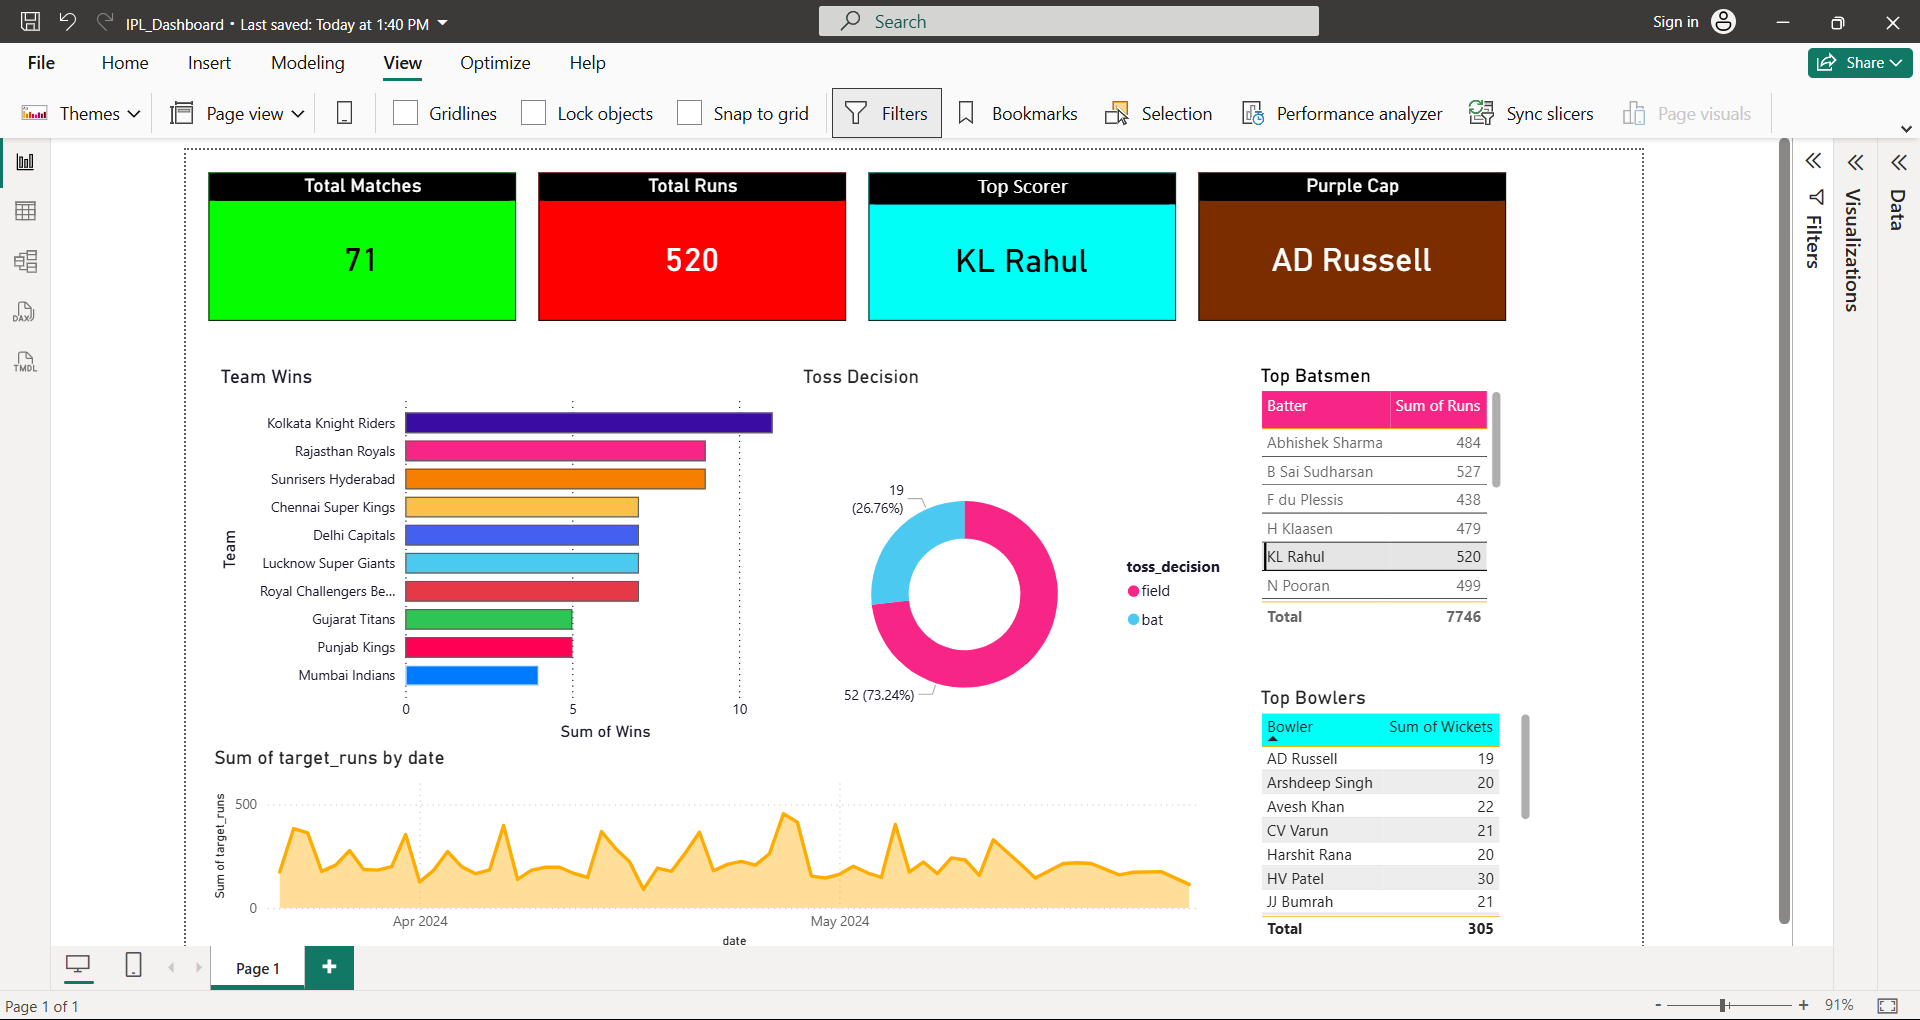

The page's visual inventory and layout, read from the dashboard file:
{"tool":"powerbi","page":{"name":"Page 1","canvas":[1280,720],"ordinal":0},"visuals":[{"type":"card","title":"Total Matches","fields":{"Values":["CountNonNull(Matches.id)"]},"box":[20,20,270,130],"z":0},{"type":"card","title":"Total Runs","fields":{"Values":["Sum(Top_Batsmen.Runs)"]},"box":[310,20,270,130],"z":1000},{"type":"card","title":"Top Scorer","fields":{"Values":["Min(Top_Batsmen.Batter)"]},"box":[600,20,270,130],"z":2000},{"type":"card","title":"Purple Cap","fields":{"Values":["Min(Top_Bowlers.Bowler)"]},"box":[890,20,270,130],"z":3000},{"type":"clusteredBarChart","title":"Team Wins","fields":{"Category":["Team_Wins.Team"],"Y":["Sum(Team_Wins.Wins)"]},"box":[25,188.6,531.8,335.2],"z":4000},{"type":"donutChart","title":"Toss Decision","fields":{"Category":["Matches.toss_decision"],"Y":["CountNonNull(Matches.id)"]},"box":[537.8,188.9,394.4,384.4],"z":5000},{"type":"tableEx","title":"Top Batsmen","fields":{"Values":["Top_Batsmen.Batter","Sum(Top_Batsmen.Runs)"]},"box":[940,188.2,222,238.9],"z":6000},{"type":"tableEx","title":"Top Bowlers","fields":{"Values":["Top_Bowlers.Bowler","Sum(Top_Bowlers.Wickets)"]},"box":[940,471.2,247.5,227.5],"z":7000},{"type":"areaChart","fields":{"Y":["Sum(Matches.target_runs)"],"Category":["Matches.date"]},"box":[20,524.4,893.3,182.2],"z":8000}]}

Visuals, with their boxes on the page's 1280x720 design canvas (x1, y1, x2, y2). These are canvas units, not pixel positions in the 1920x1020 screenshot, which may show the page scaled, cropped or inside an application window:
"Total Matches" card: Rect(20, 20, 290, 150)
"Total Runs" card: Rect(310, 20, 580, 150)
"Top Scorer" card: Rect(600, 20, 870, 150)
"Purple Cap" card: Rect(890, 20, 1160, 150)
"Team Wins" clusteredBarChart: Rect(25, 189, 557, 524)
"Toss Decision" donutChart: Rect(538, 189, 932, 573)
"Top Batsmen" tableEx: Rect(940, 188, 1162, 427)
"Top Bowlers" tableEx: Rect(940, 471, 1188, 699)
areaChart - Sum(Matches.target_runs) x Matches.date: Rect(20, 524, 913, 707)
